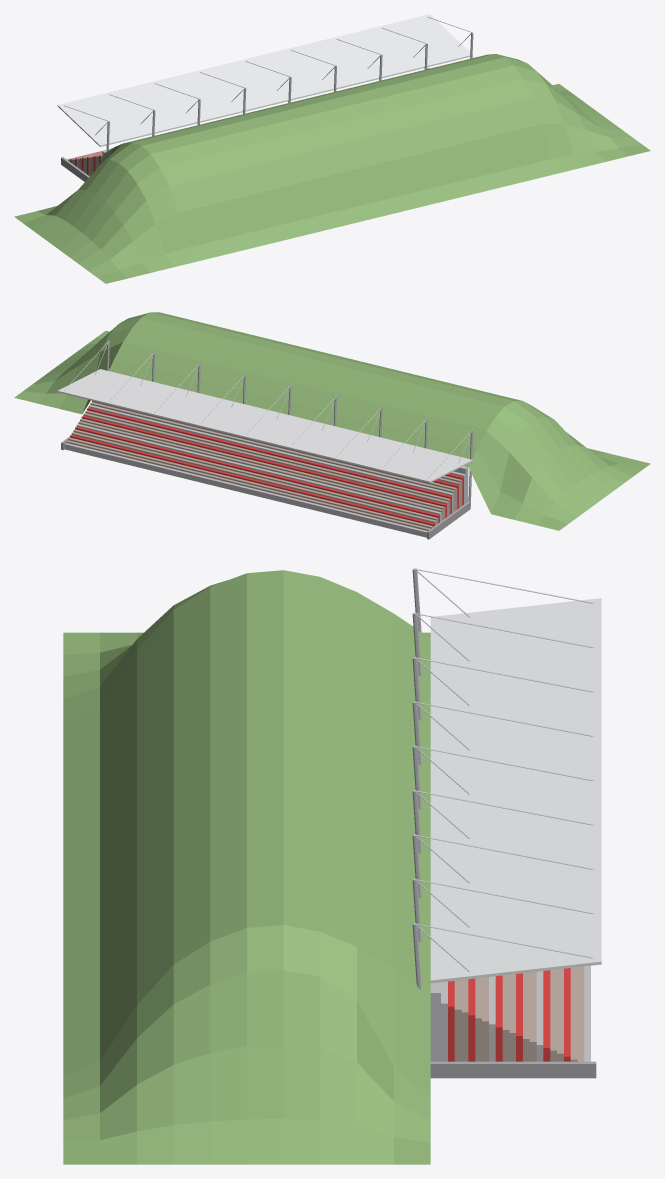
Rendered from spielberg_grandstand.glb.
The picture shows the model from 3 angles, top to bottom: view 1: azimuth 30°, elevation 25°; view 2: azimuth 150°, elevation 25°; view 3: azimuth 270°, elevation 25°; orthographic projection. The views are drawn at different scales.
Visible parts, largest first — view 1: bank, roof, stand; view 2: bank, stand, roof; view 3: bank, roof, stand.
Part boxes in pixels (x1=…): bank: x1=14, y1=54, x2=650, y2=283; roof: x1=57, y1=14, x2=473, y2=152; stand: x1=61, y1=68, x2=429, y2=181; bank: x1=14, y1=312, x2=650, y2=530; stand: x1=61, y1=400, x2=470, y2=539; roof: x1=57, y1=340, x2=473, y2=506; bank: x1=63, y1=570, x2=430, y2=1164; roof: x1=412, y1=568, x2=601, y2=989; stand: x1=430, y1=965, x2=596, y2=1078.
Size of the model in its own units: 240 by 32.12 by 103.
